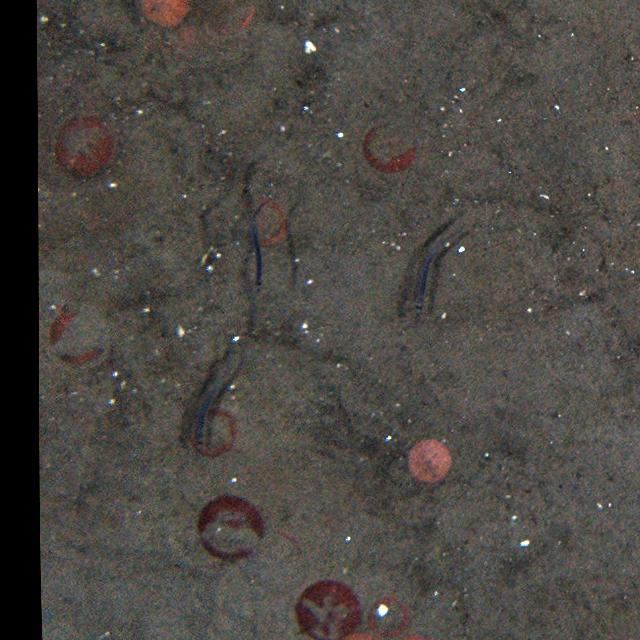roundfish: (199, 349, 249, 449)
